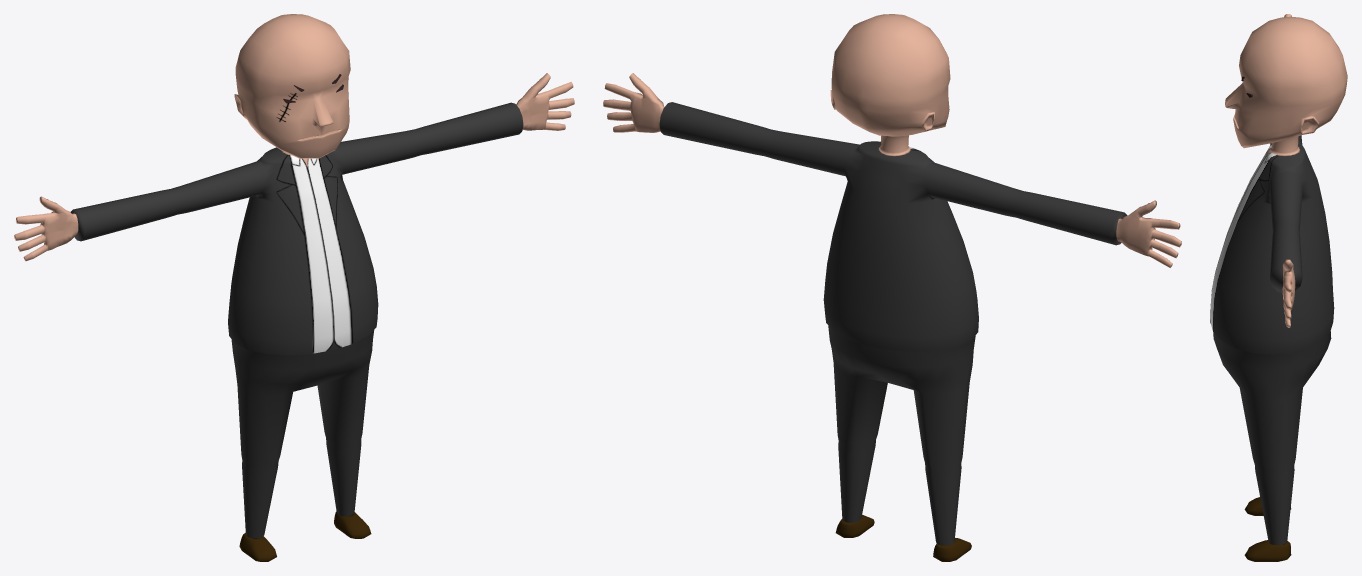
The model's file is yakuza.fbx.
3 renders of one model, left to right at view 1: azimuth 30°, elevation 25°; view 2: azimuth 150°, elevation 25°; view 3: azimuth 270°, elevation 25°, orthographic. The views are drawn at different scales.
Parts seen in each view (by area): view 1: yakuza; view 2: yakuza; view 3: yakuza.
Part boxes in pixels (x1,y1,x2,y2): yakuza: (14, 14, 574, 561); yakuza: (603, 14, 1181, 561); yakuza: (1210, 14, 1347, 561).
Bounding box in the file's own units: 64.84 × 57.17 × 13.9.
Materials: 5 (4 with a texture image).
